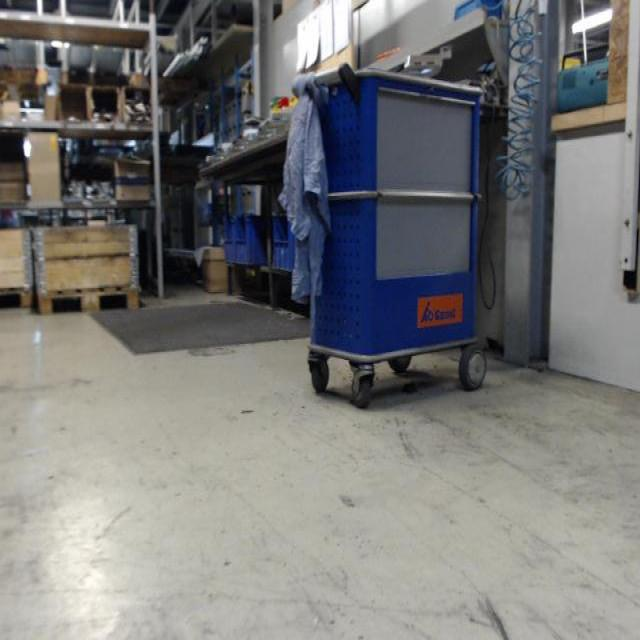pallet: (35, 282, 141, 319), (0, 286, 34, 313)
small_load_carrier: (234, 217, 265, 267), (274, 211, 297, 274), (220, 221, 241, 271)
